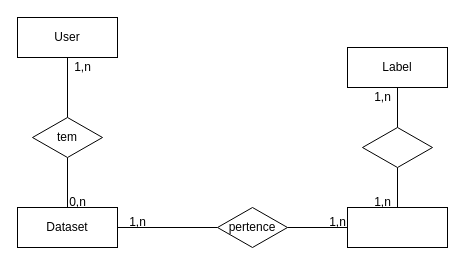
This 465x265 diagram has some shape labels left out. Each missing label, with the centre of its shape:
"classifica" goes at (397,147).
"TrainingSet" goes at (397,227).
